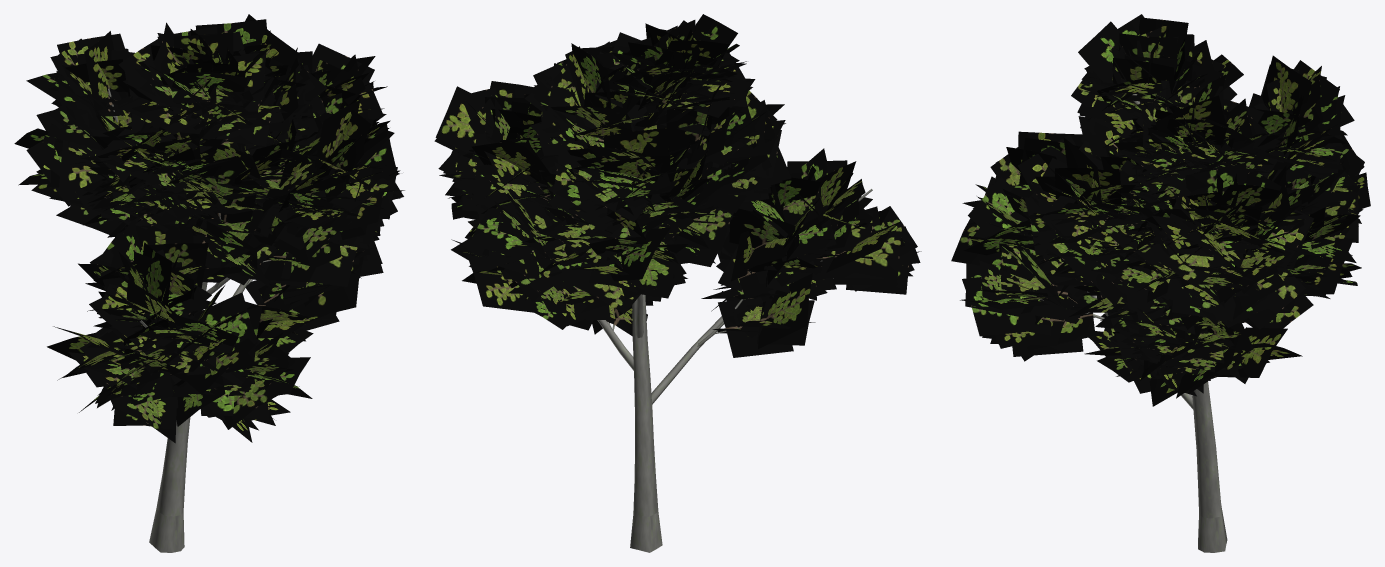
File: buk_stredni.glb
3 renders of one model, left to right at view 1: azimuth 30°, elevation 25°; view 2: azimuth 150°, elevation 25°; view 3: azimuth 270°, elevation 25°, orthographic. The views are drawn at different scales.
Parts seen in each view (by area): view 1: buk_stredni; view 2: buk_stredni; view 3: buk_stredni.
Part boxes in pixels (x1,y1,x2,y2): buk_stredni: (14, 14, 404, 552); buk_stredni: (434, 14, 921, 552); buk_stredni: (951, 14, 1370, 552).
Size of the model in its own units: 8.9 by 11.3 by 8.31.
2 materials, 2 textured.
